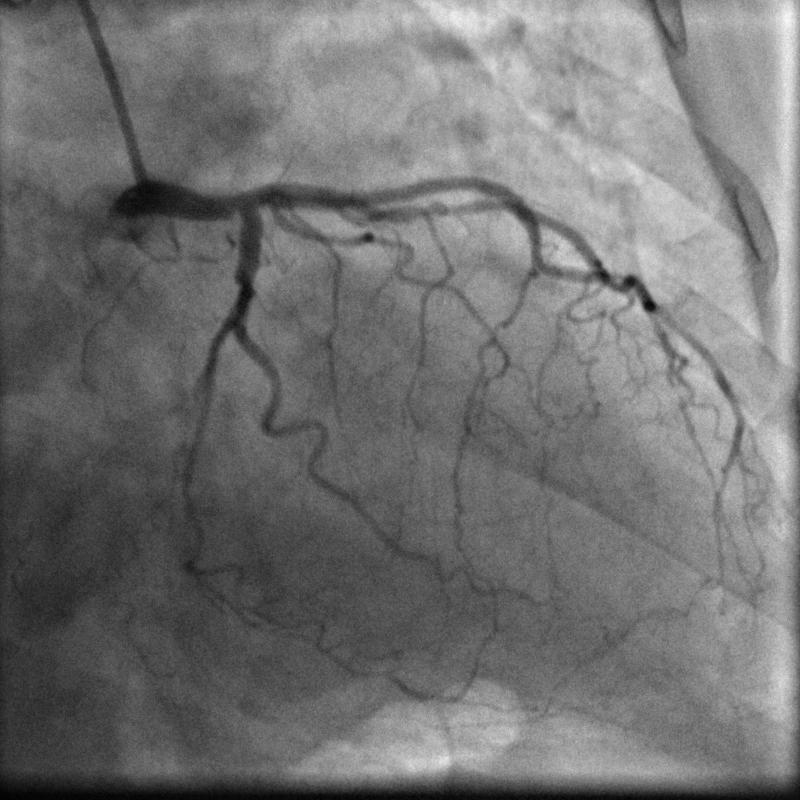Stenosis: (418, 196, 489, 224)
